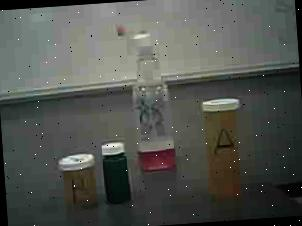Bottle A: (194, 88, 261, 206)
Bottle B: (54, 148, 104, 210)
Bottle C: (96, 134, 138, 210)
hazard: (112, 16, 184, 177)
